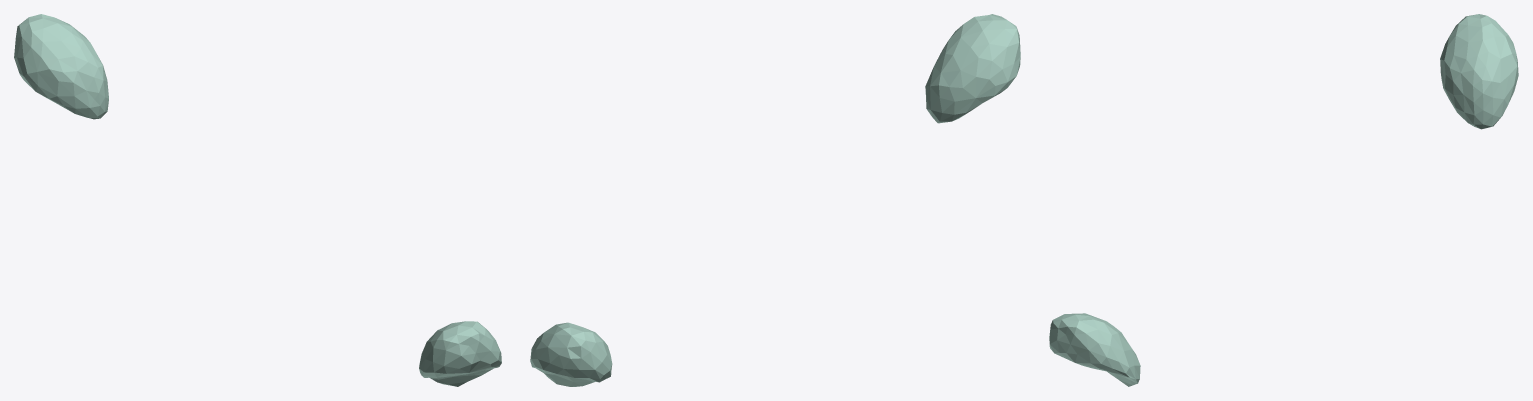
3 renders of one model, left to right at view 1: azimuth 30°, elevation 25°; view 2: azimuth 150°, elevation 25°; view 3: azimuth 330°, elevation 25°, orthographic. The views are drawn at different scales.
Parts seen in each view (by area): view 1: 260.obj; view 2: 260.obj; view 3: 260.obj.
Boxes of the visible parts, left/top/right/bottom form: 260.obj: left=14, top=14, right=501, bottom=386; 260.obj: left=530, top=14, right=1020, bottom=386; 260.obj: left=1049, top=14, right=1518, bottom=386.
Bounding box in the file's own units: 459 × 509 × 4503.
